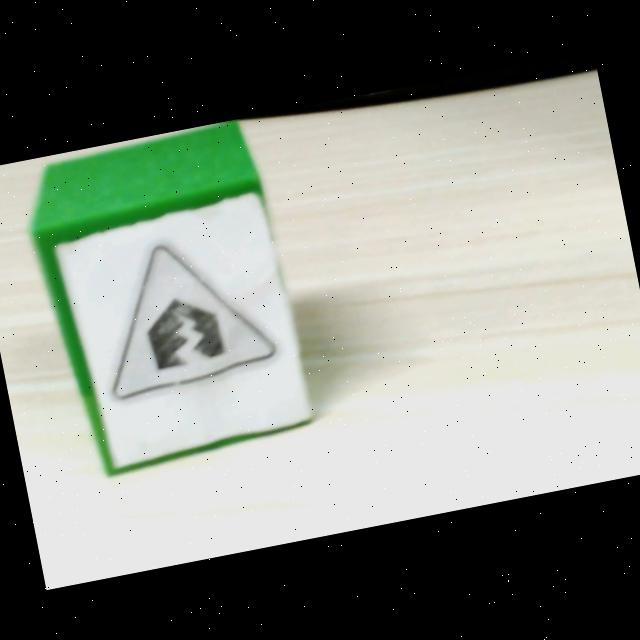Earthquake: (85, 228, 282, 404), (113, 245, 279, 401)
